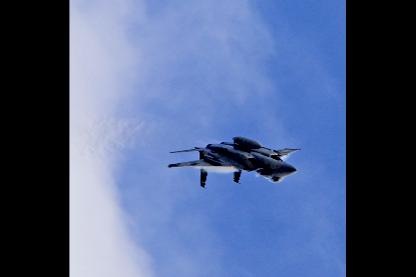F117: (168, 136, 301, 188)
